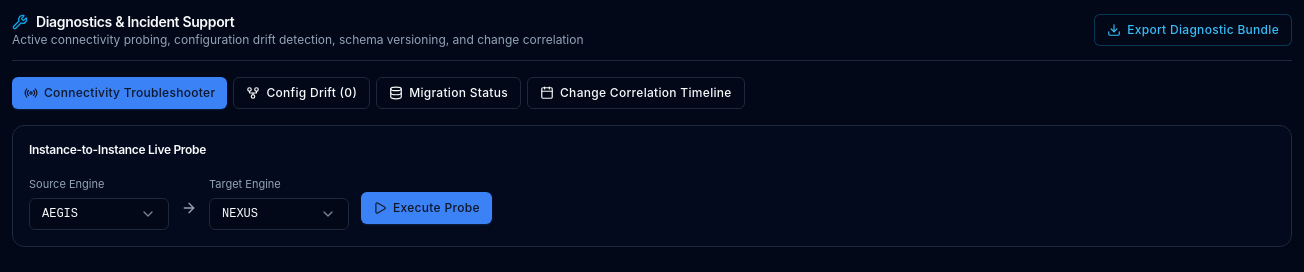
Diagnostics UI Components › switches to Change Correlation Timeline and displays incident events
What coordinates should you click on to do the following:
click the button "Change Correlation Timeline"
I would click on:
 (636, 93)
Its box is top-left (527, 77), bottom-right (745, 109).
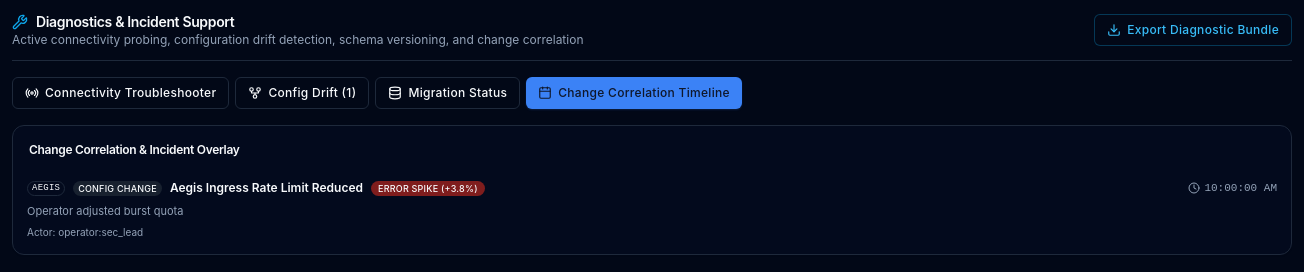
Expected: the heading "Change Correlation & Incident Overlay" is shown, top-left (29, 142), bottom-right (240, 157)
Expected: the text "Aegis Ingress Rate Limit Reduced" is shown, top-left (170, 180), bottom-right (363, 196)
Expected: the text "Error Spike (+3.8%)" is shown, top-left (371, 180), bottom-right (485, 196)
